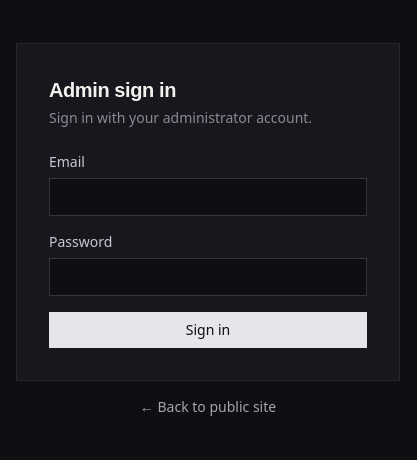
Test: AdminLogin › shows a normalized error message when sign-in fails
Type "admin@example.com" into the field labelled "Email".
click(208, 197); type("admin@example.com")  # box [49,178,367,216]
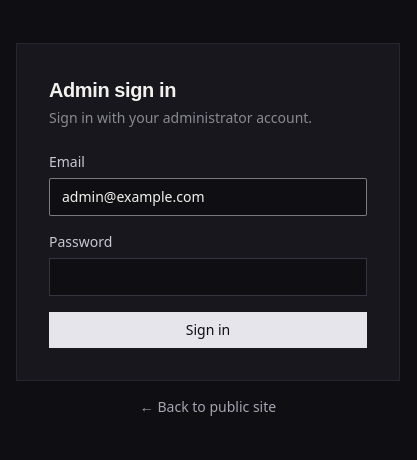
Type "wrong-password" into the password field labelled "Password".
click(208, 277); type("wrong-password")  # box [49,258,367,296]
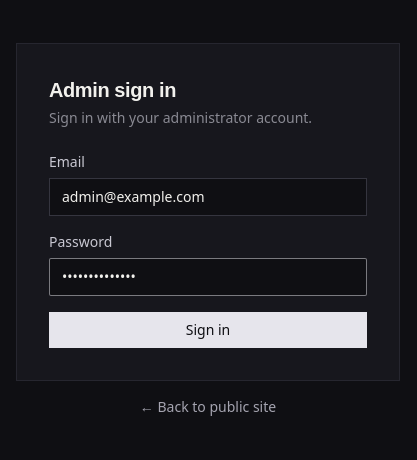
Click the button "Sign in".
click(208, 330)  # box [49,312,367,348]
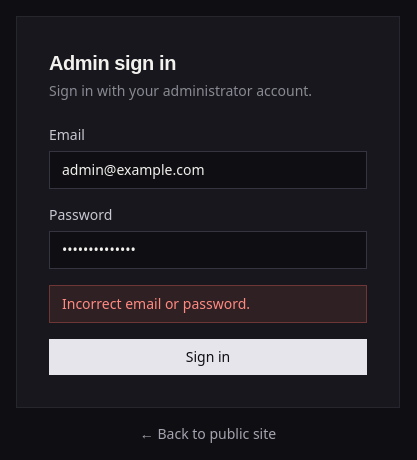
Expected: the message reads "Incorrect email or password.", [62,294,250,313]
